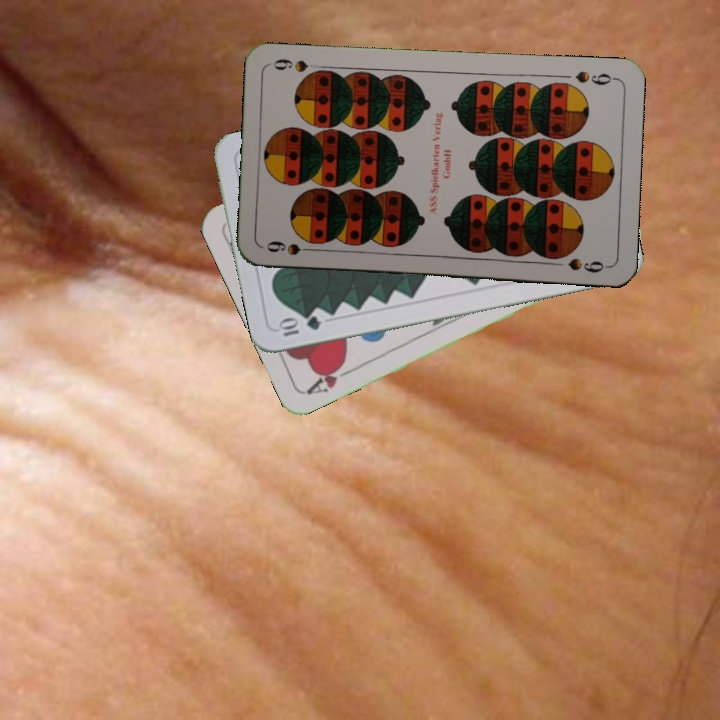G10: (274, 312, 324, 339)
HA: (302, 357, 358, 397)
S9: (262, 236, 321, 258), (571, 67, 619, 88)
